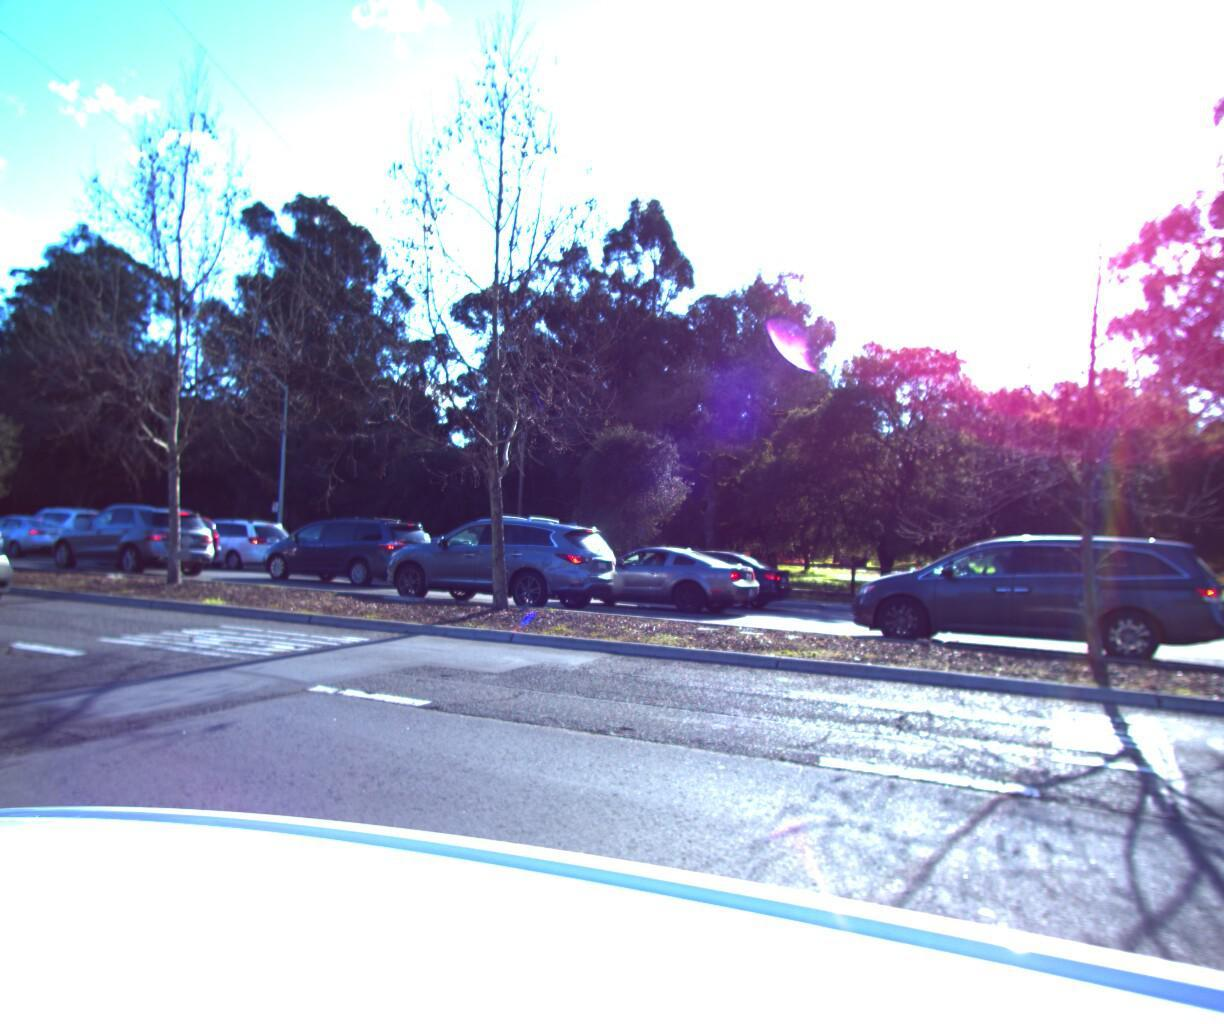car: (831, 519, 1224, 676), (355, 504, 632, 616), (530, 536, 770, 615), (242, 507, 443, 587), (30, 497, 224, 577), (612, 540, 799, 608), (79, 505, 226, 568), (154, 510, 298, 569)
